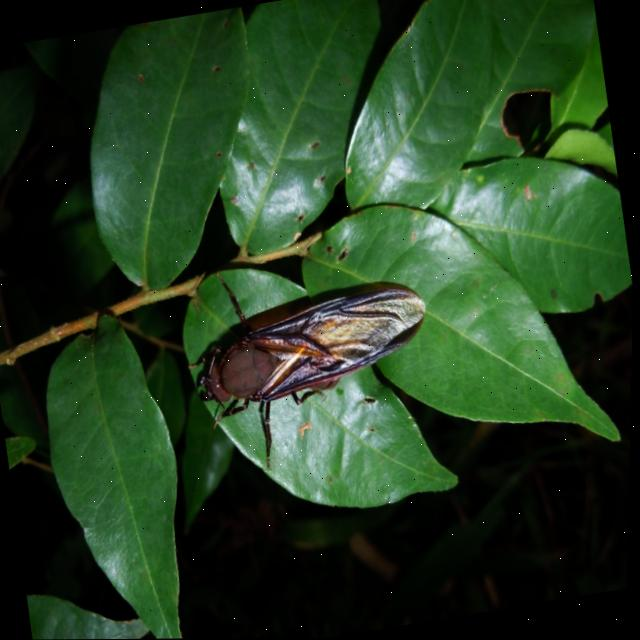Alive-Female-Alate: (173, 237, 451, 483)
